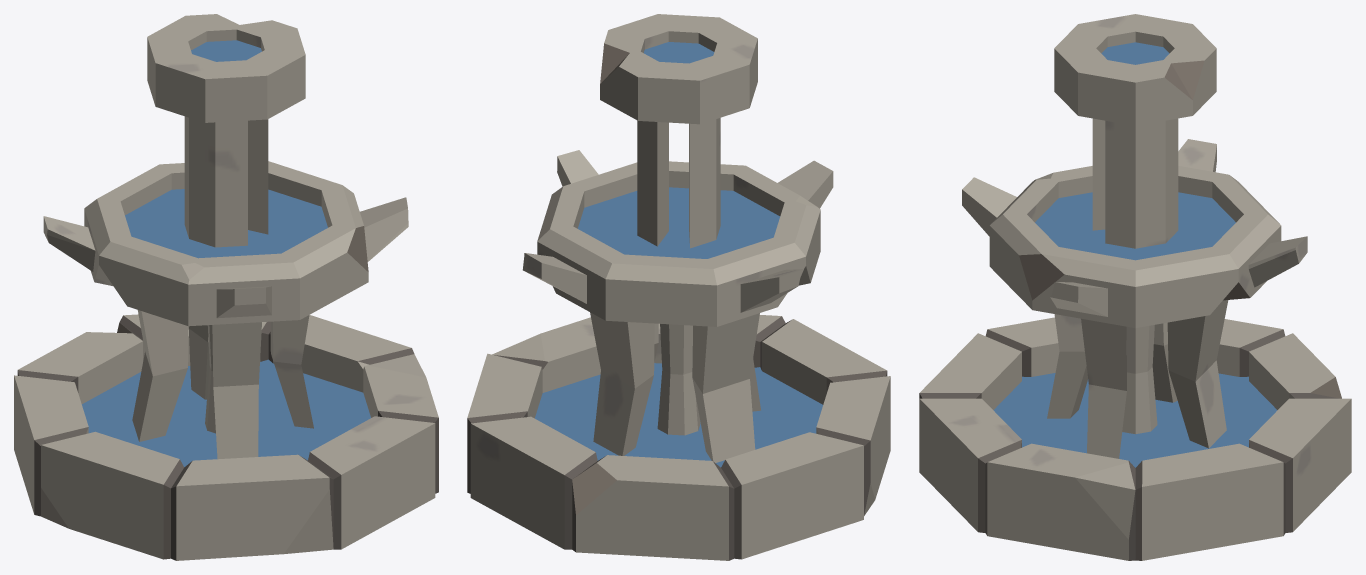
File: Fontain.fbx
The picture shows the model from 3 angles, left to right: view 1: azimuth 30°, elevation 25°; view 2: azimuth 150°, elevation 25°; view 3: azimuth 270°, elevation 25°; orthographic projection.
Visible parts, largest first — view 1: Fountain; view 2: Fountain; view 3: Fountain.
Boxes of the visible parts, bbox=[...] form: Fountain: bbox=[14, 14, 438, 560]; Fountain: bbox=[467, 14, 890, 560]; Fountain: bbox=[919, 14, 1351, 560].
Bounding box in the file's own units: 436 × 469 × 436.
